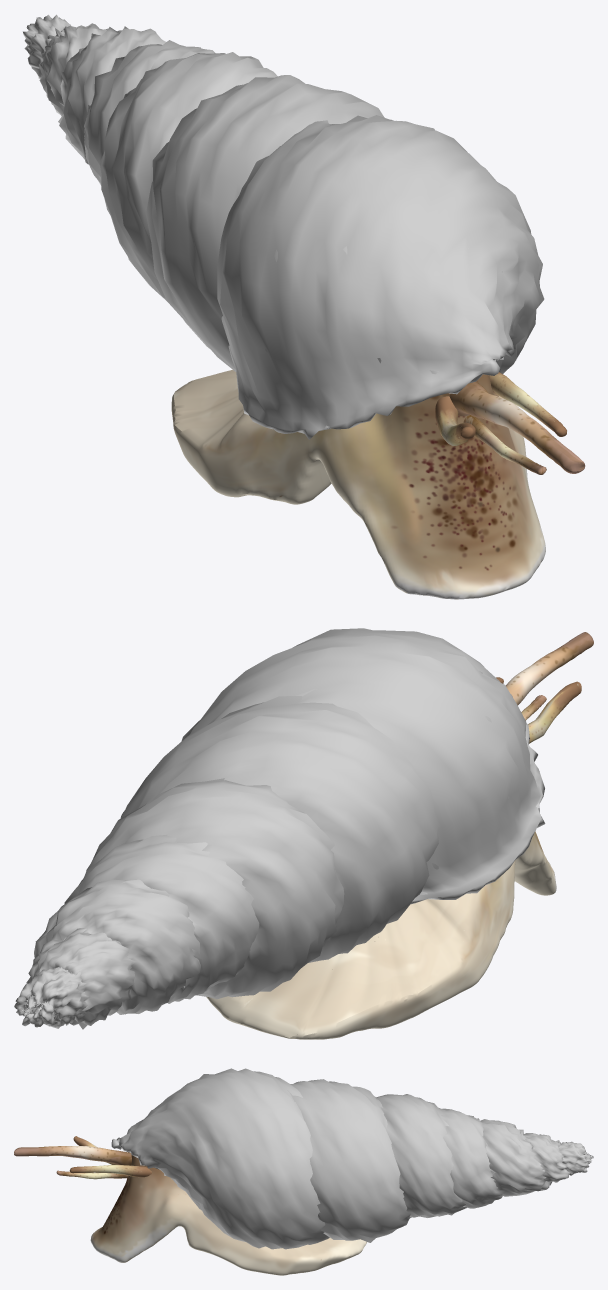
Rendered from vampire.fbx.
The picture shows the model from 3 angles, top to bottom: view 1: azimuth 30°, elevation 25°; view 2: azimuth 150°, elevation 25°; view 3: azimuth 270°, elevation 25°; orthographic projection. The views are drawn at different scales.
Visible parts, largest first — view 1: Circle.001, AP_Gloriamaris_Default:Body.002, AP_Gloriamaris_Default:Body.001, AP_Gloriamaris_Default:Body.004, AP_Gloriamaris_Default:Body.005, AP_Gloriamaris_Default:Body.003; view 2: Circle.001, AP_Gloriamaris_Default:Body.002, AP_Gloriamaris_Default:Body.001, AP_Gloriamaris_Default:Body.005; view 3: Circle.001, AP_Gloriamaris_Default:Body.002, AP_Gloriamaris_Default:Body.001, AP_Gloriamaris_Default:Body.004, AP_Gloriamaris_Default:Body.003.
Boxes of the visible parts, x1,y1,x2,y2 form: Circle.001: (23,14,544,439); AP_Gloriamaris_Default:Body.002: (171,369,545,599); AP_Gloriamaris_Default:Body.001: (449,381,585,473); AP_Gloriamaris_Default:Body.004: (489,372,566,436); AP_Gloriamaris_Default:Body.005: (435,396,475,445); AP_Gloriamaris_Default:Body.003: (463,415,546,474); Circle.001: (14,628,545,1029); AP_Gloriamaris_Default:Body.002: (206,831,556,1039); AP_Gloriamaris_Default:Body.001: (505,632,593,705); AP_Gloriamaris_Default:Body.005: (528,681,581,743); Circle.001: (111,1068,593,1249); AP_Gloriamaris_Default:Body.002: (90,1155,366,1275); AP_Gloriamaris_Default:Body.001: (14,1146,131,1165); AP_Gloriamaris_Default:Body.004: (69,1165,151,1177); AP_Gloriamaris_Default:Body.003: (56,1170,128,1179).
Size of the model in its own units: 279 by 295 by 899.
